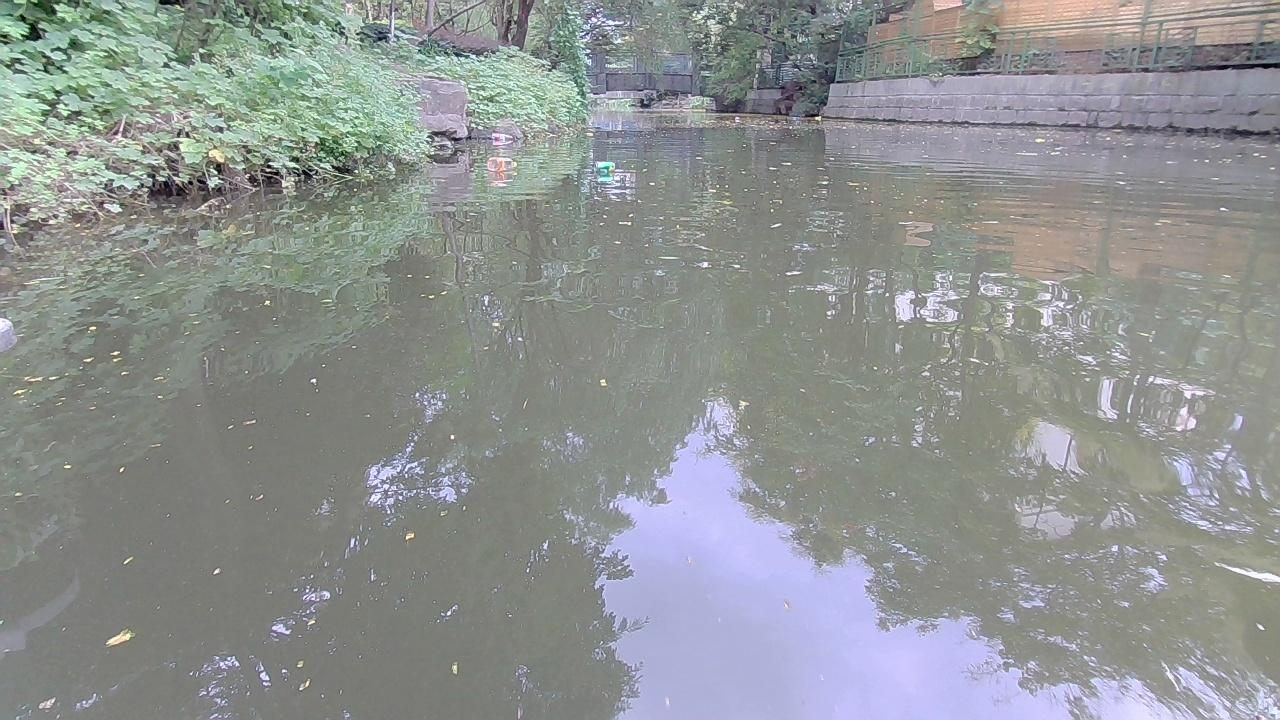bottle: (484, 154, 524, 172), (589, 159, 615, 171), (489, 130, 515, 142), (730, 111, 745, 122), (812, 114, 821, 123)
